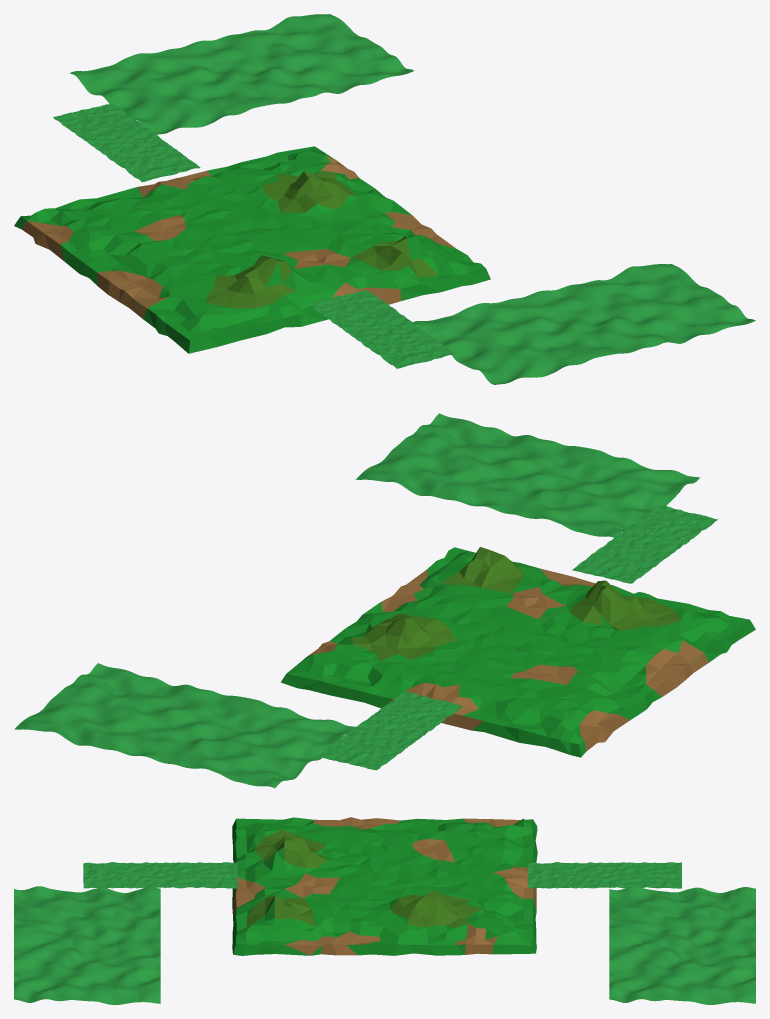
Rendered from plain.fbx.
3 renders of one model, top to bottom at view 1: azimuth 30°, elevation 25°; view 2: azimuth 150°, elevation 25°; view 3: azimuth 270°, elevation 25°, orthographic. The views are drawn at different scales.
Visible parts, largest first — view 1: Plane, Plane.002, Plane.004, Plane.001, Plane.003; view 2: Plane, Plane.004, Plane.002, Plane.003, Plane.001; view 3: Plane, Plane.002, Plane.004, Plane.001, Plane.003.
Boxes of the visible parts, x1,y1,x2,y2 form: Plane: [14, 146, 490, 353]; Plane.002: [413, 264, 755, 384]; Plane.004: [70, 14, 413, 134]; Plane.001: [308, 290, 455, 368]; Plane.003: [53, 103, 200, 182]; Plane: [280, 547, 755, 757]; Plane.004: [14, 663, 355, 788]; Plane.002: [355, 413, 699, 537]; Plane.003: [317, 692, 463, 770]; Plane.001: [572, 505, 717, 583]; Plane: [232, 817, 537, 955]; Plane.002: [14, 886, 160, 1004]; Plane.004: [609, 886, 755, 1004]; Plane.001: [83, 862, 237, 888]; Plane.003: [528, 862, 681, 888].
Bounding box in the file's own units: 3041 × 284 × 5056.
